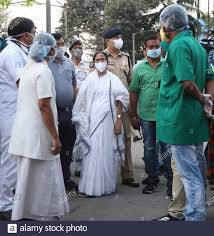mask: (156, 11, 189, 45), (34, 32, 59, 64), (141, 34, 163, 62), (108, 25, 125, 48), (54, 28, 66, 60), (90, 52, 109, 72), (68, 38, 83, 60)
